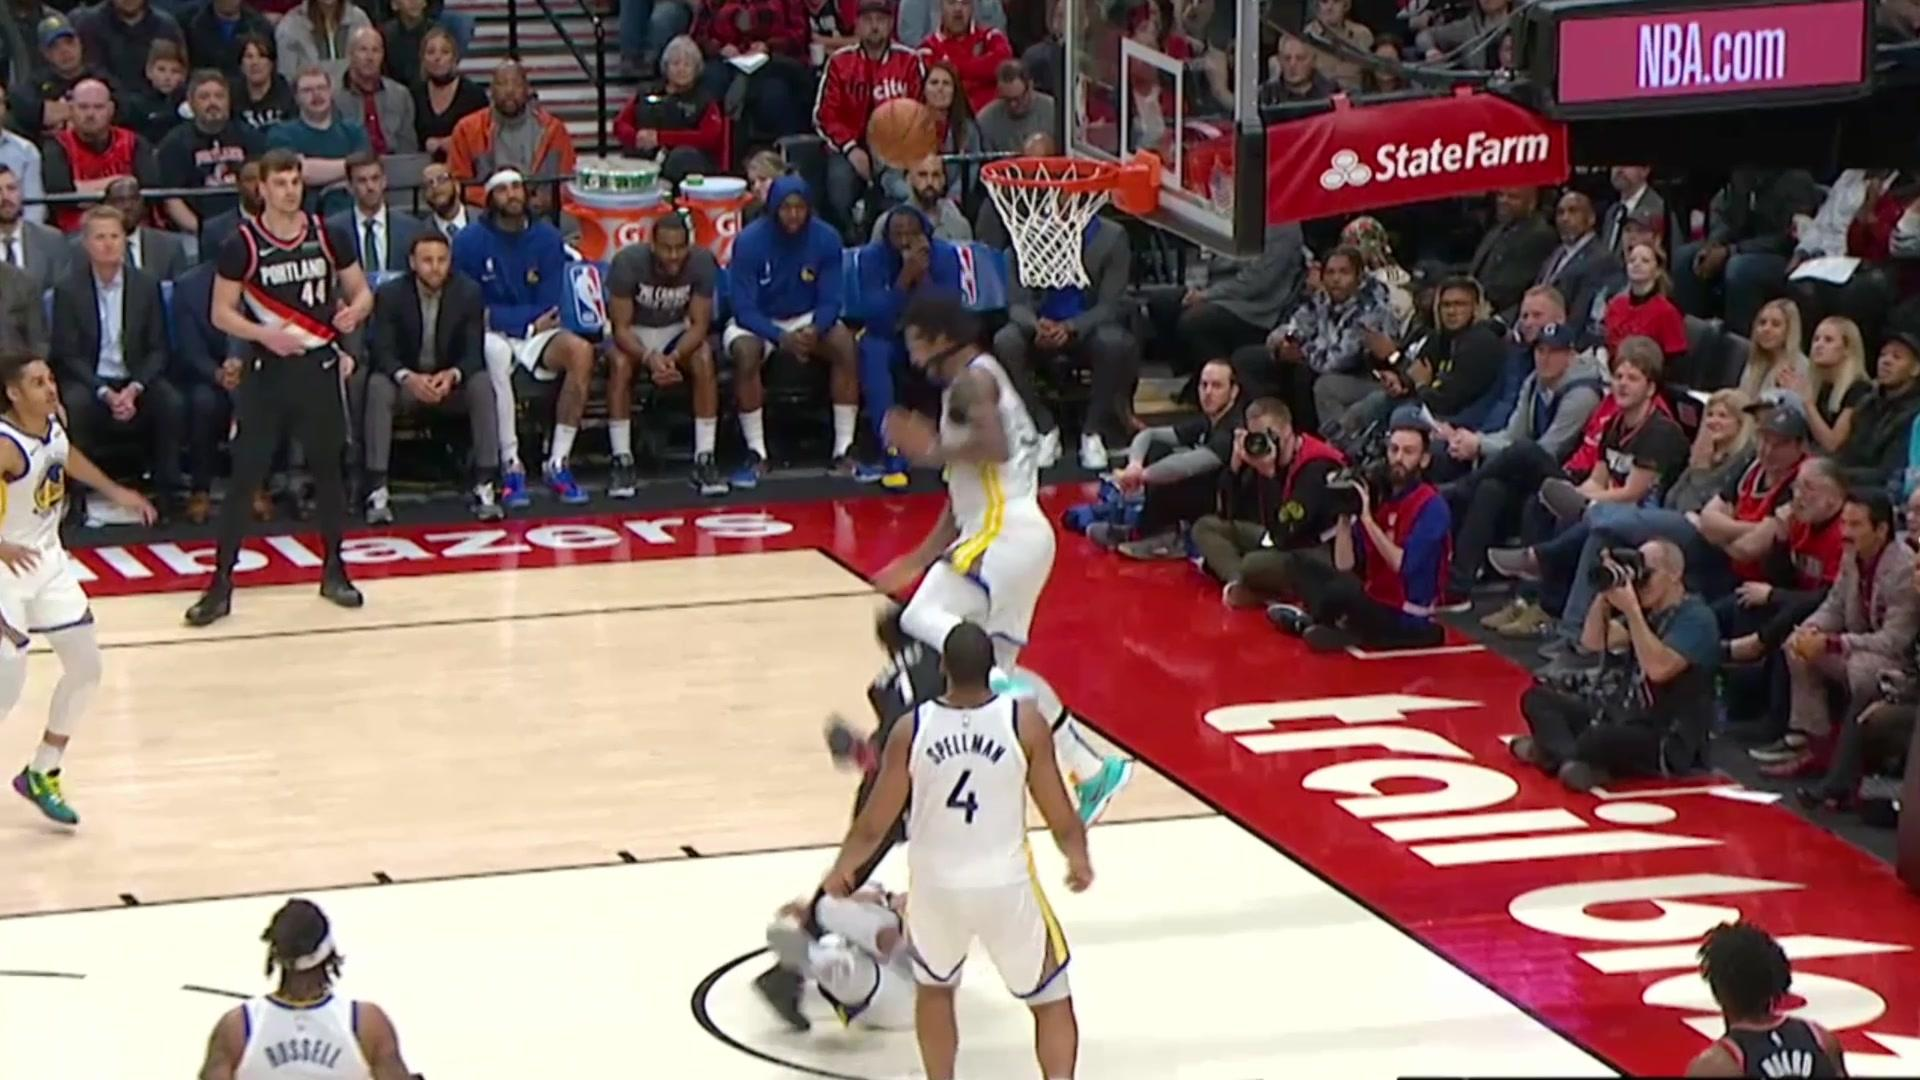no_foul: (794, 562, 934, 1073)
